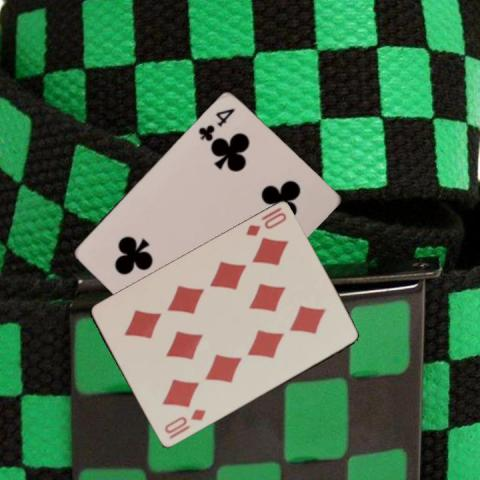10d: (242, 205, 288, 238), (162, 406, 208, 436)
4c: (195, 105, 237, 142)
